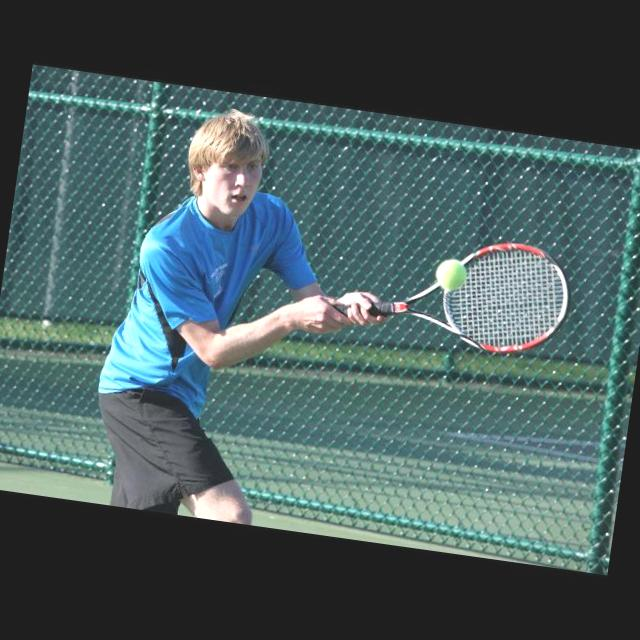Tennis Ball: (433, 256, 468, 292)
